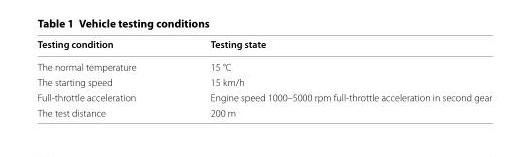table: (36, 37, 491, 118)
table column: (172, 37, 491, 118), (36, 37, 172, 118)
table column header: (36, 37, 491, 55)
table row: (36, 55, 491, 74), (36, 37, 491, 55), (36, 74, 491, 89), (36, 89, 491, 104), (36, 104, 491, 118)
